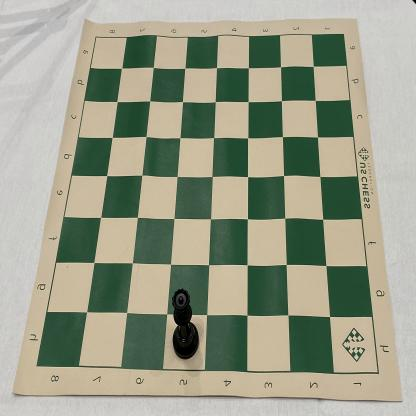black-queen: (172, 288, 200, 360)
